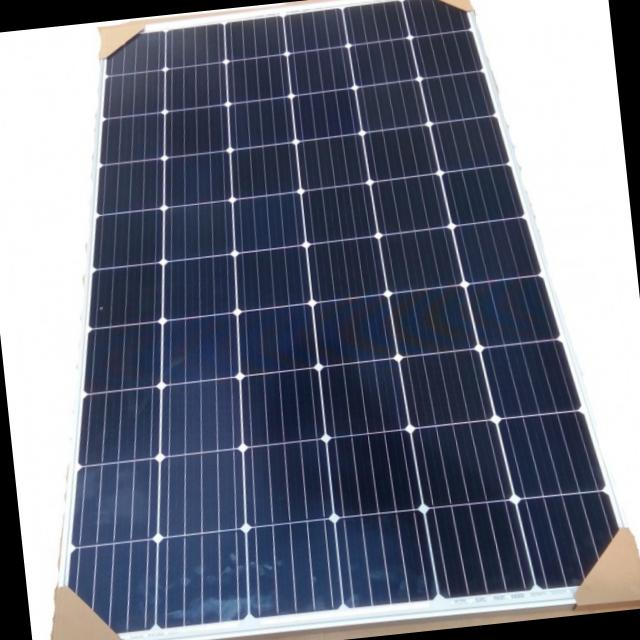no faulty: (61, 0, 619, 638)
